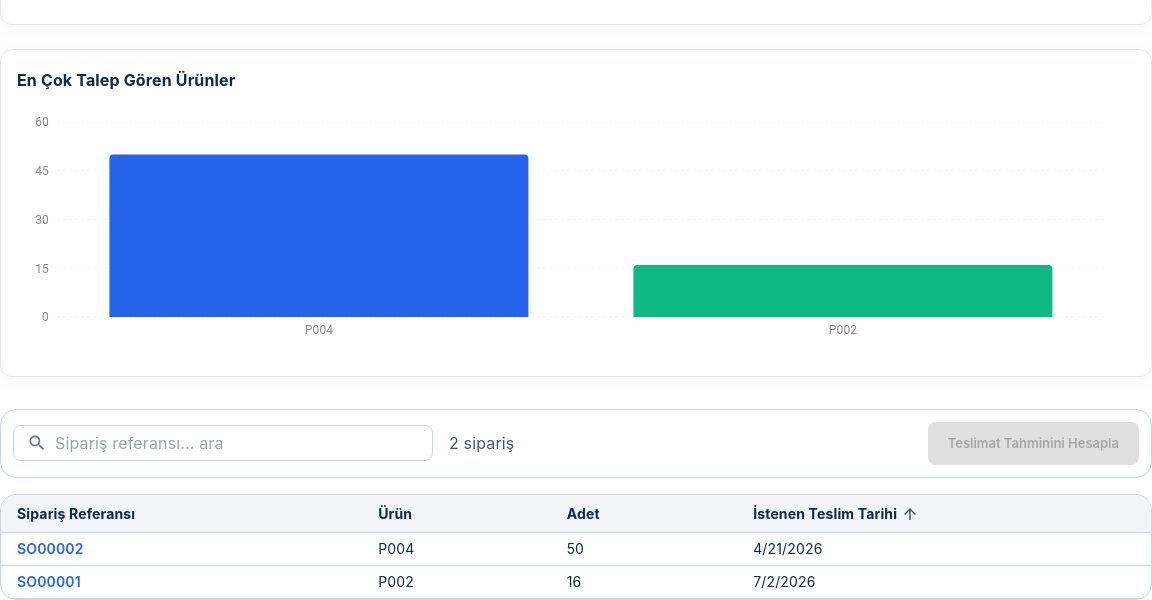
Test case: Orders › lets the user select an order (clicking outside the reference link) and shows the selection
(page scrolled)
Click the text "P002" at {"x": 456, "y": 582}, box 362,566 -> 551,598
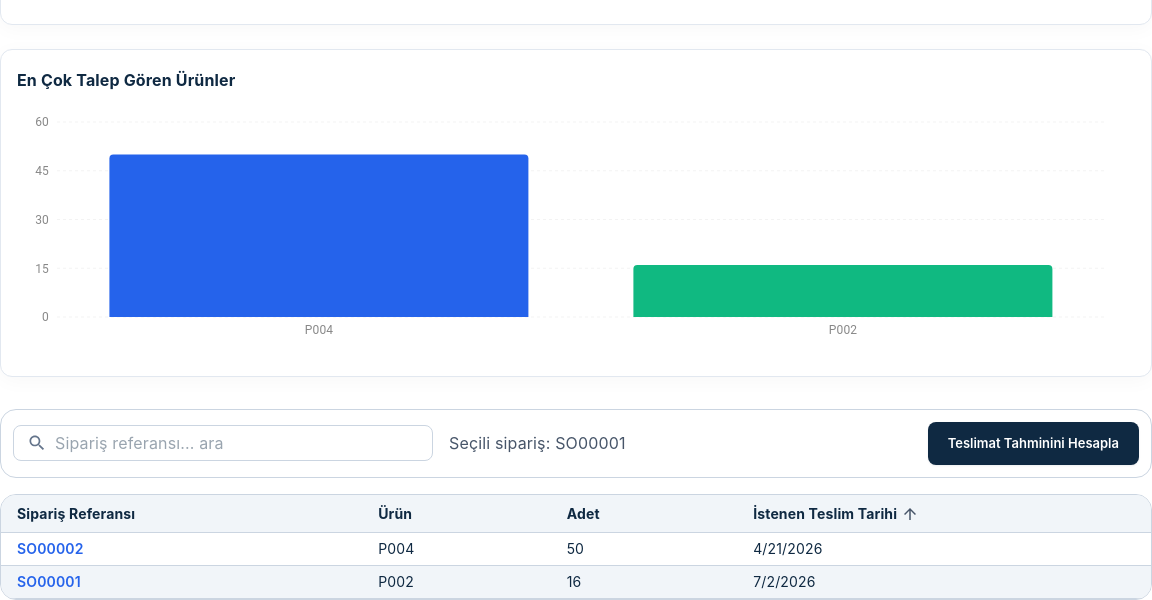
Result: the text "Seçili sipariş: SO00001" is shown at 449,432 -> 626,456
Result: the button "Teslimat Tahminini Hesapla" is enabled at 928,422 -> 1139,465
